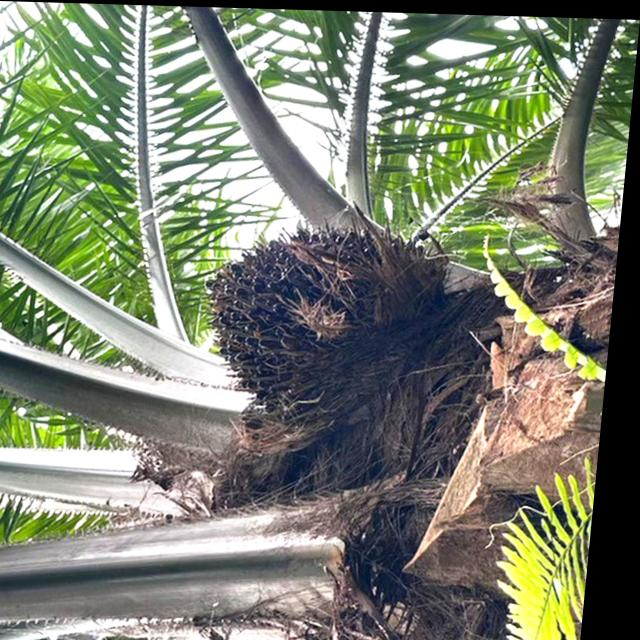unripe: (188, 190, 450, 437)
